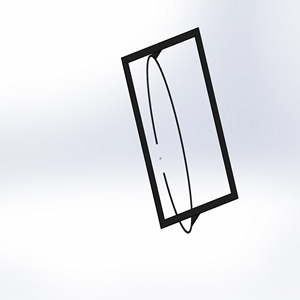circle: (120, 25, 239, 235)
